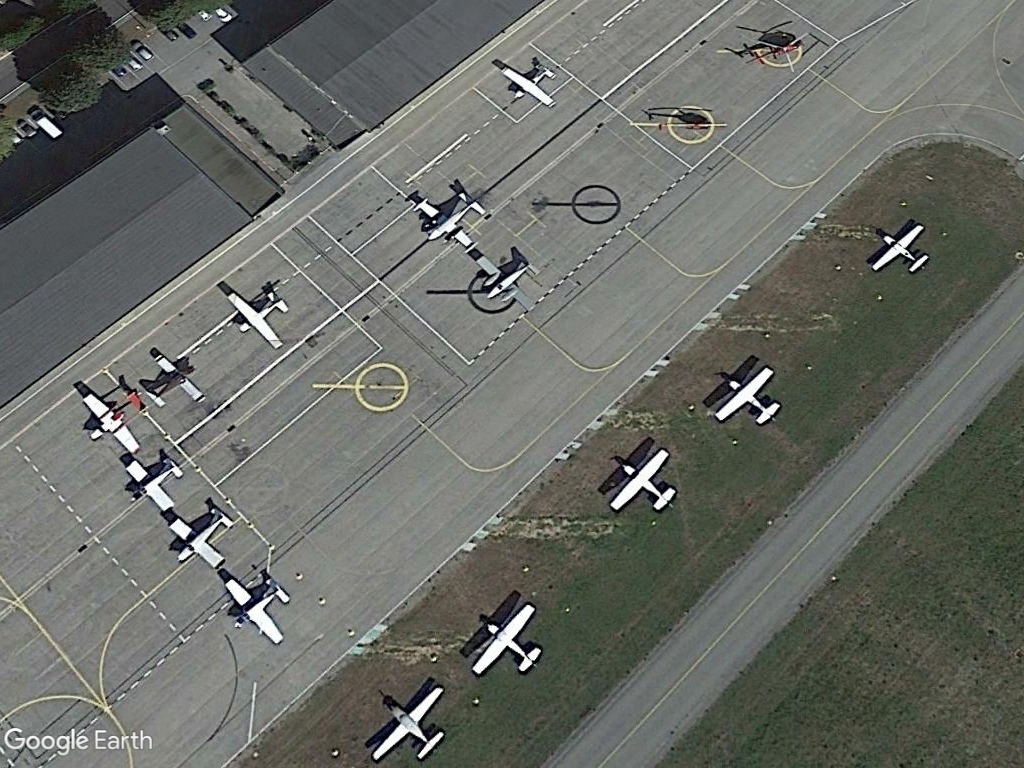helicopter: (622, 98, 736, 151), (717, 27, 823, 78)
trainer: (361, 679, 450, 766), (463, 603, 548, 682), (596, 446, 681, 521), (703, 357, 785, 433), (213, 574, 295, 650), (168, 502, 246, 573), (71, 383, 149, 453), (406, 186, 491, 250), (467, 251, 542, 318), (135, 350, 213, 410), (221, 290, 294, 352), (117, 455, 190, 514), (862, 221, 934, 278), (497, 61, 565, 111)
